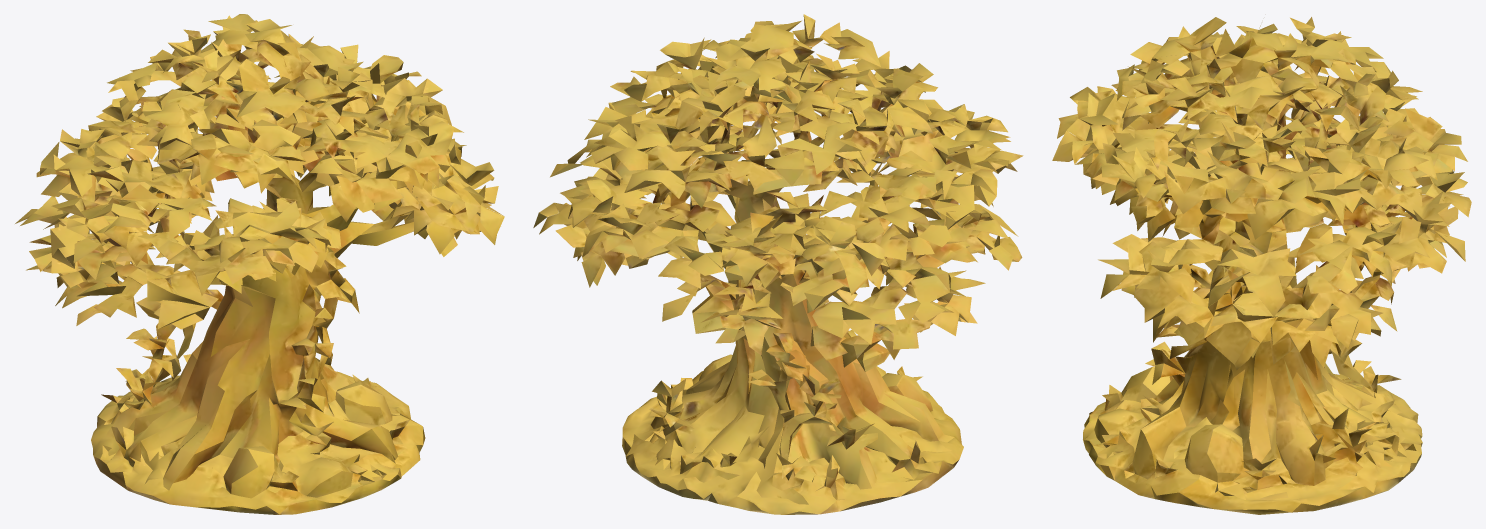
Rendered from tree-gold.glb.
3 views of the same model, side by side, from view 1: azimuth 30°, elevation 25°; view 2: azimuth 150°, elevation 25°; view 3: azimuth 270°, elevation 25° (orthographic).
Visible parts, largest first — view 1: geometry_0; view 2: geometry_0; view 3: geometry_0.
Part boxes in pixels (x1,y1,x2,y2): geometry_0: (15, 14, 504, 514); geometry_0: (533, 14, 1023, 514); geometry_0: (1052, 17, 1471, 514).
Size of the model in its own units: 0.3685 by 0.35 by 0.3187.
1 material, 1 textured.
